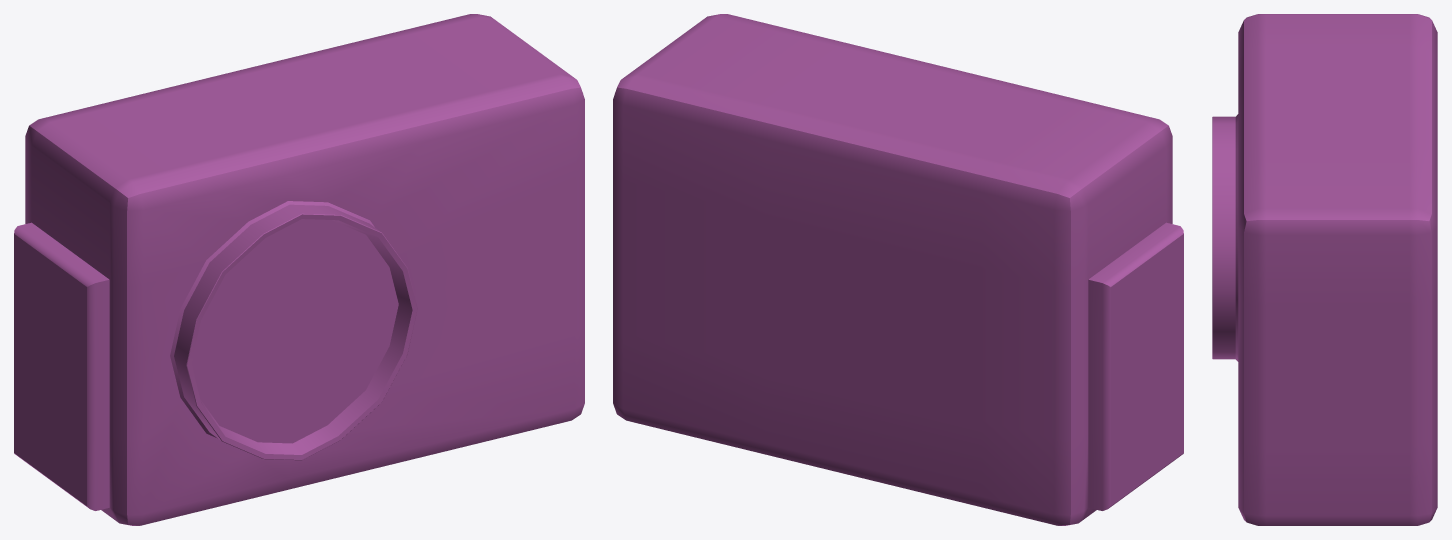
Rendered from model_AirConditioner_low.fbx.
3 renders of one model, left to right at view 1: azimuth 30°, elevation 25°; view 2: azimuth 150°, elevation 25°; view 3: azimuth 270°, elevation 25°, orthographic. The views are drawn at different scales.
Visible parts, largest first — view 1: AirConditioner_low; view 2: AirConditioner_low; view 3: AirConditioner_low.
Boxes of the visible parts, box(x1,y1,x2,y2) form: AirConditioner_low: box(14, 14, 584, 525); AirConditioner_low: box(613, 14, 1183, 525); AirConditioner_low: box(1212, 14, 1437, 525).
Size of the model in its own units: 104 by 70 by 45.21.
